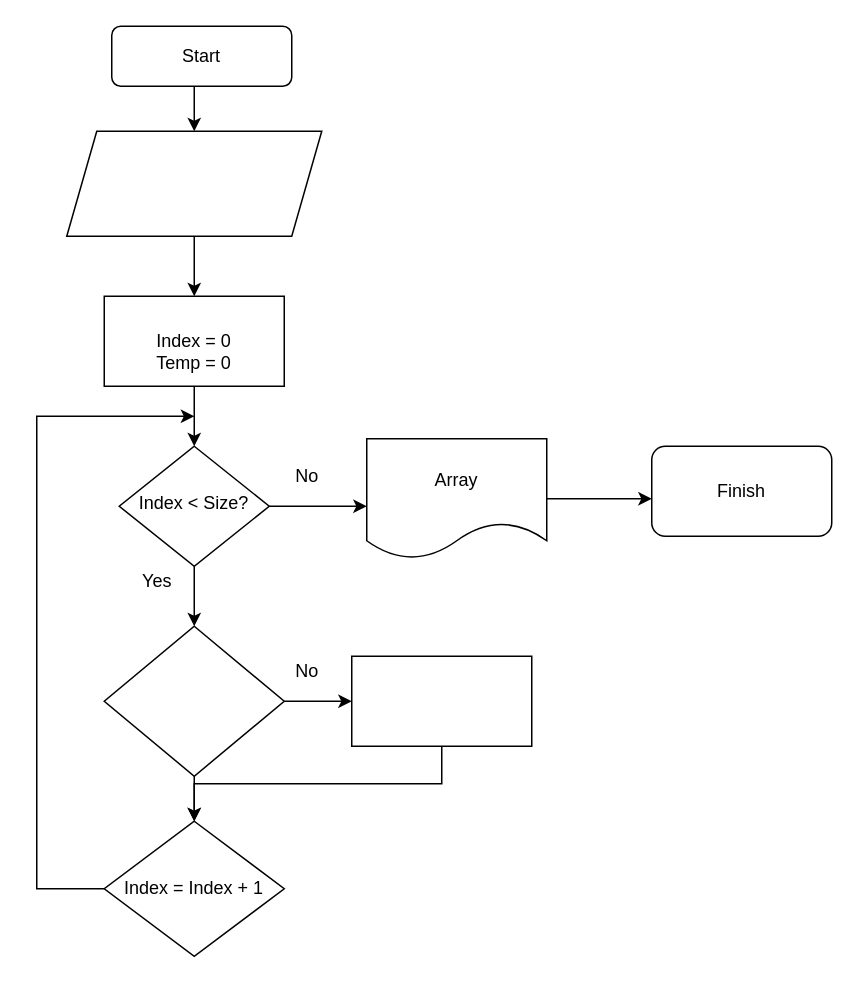
The diagram is 858 pixels wide and 983 high, and some of its shapes have lost their labels. The box of each missing label's shape, as (x1, y1, x2, y2) in pixels:
Array[index].Size >=3?: (103, 625, 284, 776)
Size Array[size]: (65, 130, 322, 236)
Temp = Array[index] Temp = Temp + 1: (350, 655, 532, 746)
